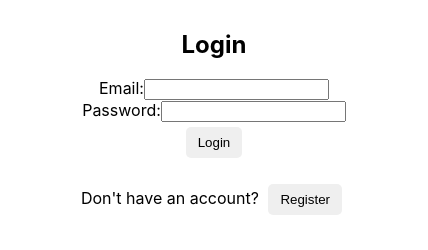
Test: AuthPage › handles failed login
In the field labelled "Email:": (236,90) [144, 79, 329, 100], type "wrong@example.com"
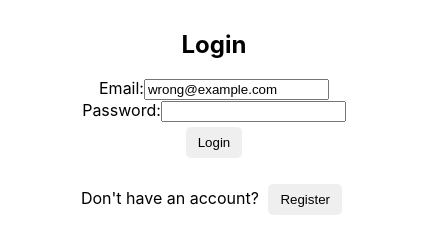
In the password field labelled "Password:": (253,112) [161, 101, 346, 122], type "wrongpass"
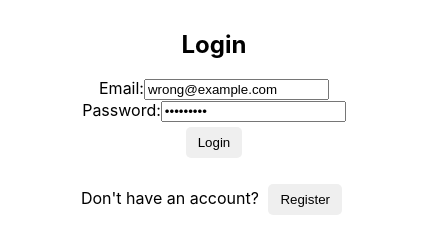
Click the button "Login": (214,143) [186, 127, 242, 158]
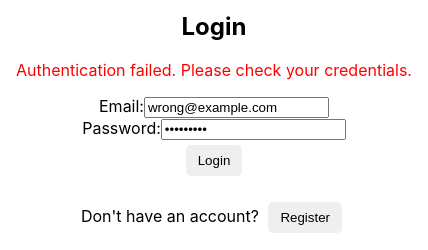
Check: the text "Authentication failed. Please check your credentials." is shown, box [16, 60, 412, 80]
